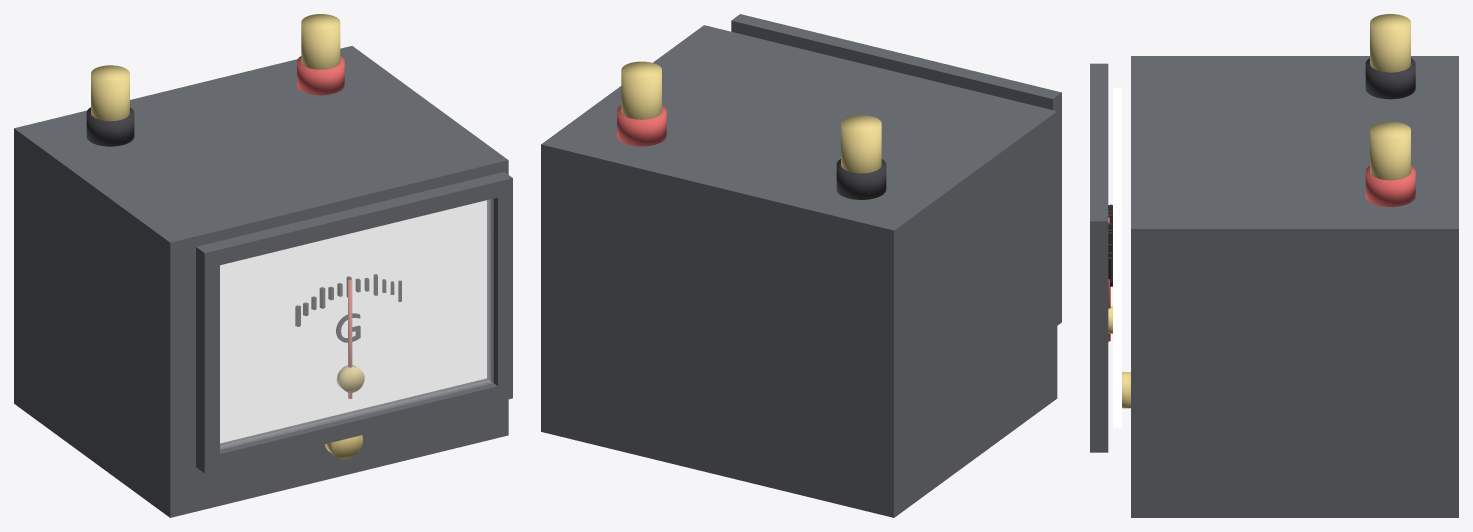
The model's file is galvanometer.glb.
3 views of the same model, side by side, from view 1: azimuth 30°, elevation 25°; view 2: azimuth 150°, elevation 25°; view 3: azimuth 270°, elevation 25° (orthographic). The views are drawn at different scales.
Parts seen in each view (by area): view 1: galvanometer-case, galvanometer-glass, galvanometer-dial, galvanometer-frame-top, galvanometer-frame-bottom, galvanometer-frame-left, galvanometer-frame-right, galvanometer-term-pos, galvanometer-term-neg, galvanometer-collar-neg, galvanometer-collar-pos, galvanometer-zero-screw (+1 smaller); view 2: galvanometer-case, galvanometer-frame-top, galvanometer-term-pos, galvanometer-term-neg, galvanometer-frame-left, galvanometer-collar-neg, galvanometer-collar-pos; view 3: galvanometer-case, galvanometer-frame-right, galvanometer-dial, galvanometer-frame-top, galvanometer-term-neg, galvanometer-term-pos, galvanometer-collar-neg, galvanometer-collar-pos.
Boxes of the visible parts, box(x1,y1,x2,y2) form: galvanometer-case: box(14, 46, 508, 517); galvanometer-glass: box(220, 199, 493, 449); galvanometer-dial: box(220, 200, 486, 443); galvanometer-frame-top: box(211, 175, 497, 265); galvanometer-frame-bottom: box(220, 380, 497, 469); galvanometer-frame-left: box(196, 243, 219, 473); galvanometer-frame-right: box(489, 172, 512, 401); galvanometer-term-pos: box(301, 14, 340, 69); galvanometer-term-neg: box(91, 65, 129, 121); galvanometer-collar-neg: box(86, 107, 134, 146); galvanometer-collar-pos: box(297, 56, 344, 95); galvanometer-zero-screw: box(324, 435, 362, 459); galvanometer-case: box(541, 25, 1057, 517); galvanometer-frame-top: box(747, 18, 1045, 106); galvanometer-term-pos: box(621, 61, 661, 119); galvanometer-term-neg: box(841, 115, 881, 173); galvanometer-frame-left: box(1037, 88, 1061, 325); galvanometer-collar-neg: box(836, 159, 886, 199); galvanometer-collar-pos: box(617, 105, 666, 146); galvanometer-case: box(1131, 56, 1458, 517); galvanometer-frame-right: box(1090, 213, 1108, 452); galvanometer-dial: box(1113, 88, 1121, 428); galvanometer-frame-top: box(1090, 71, 1108, 213); galvanometer-term-neg: box(1370, 14, 1410, 72); galvanometer-term-pos: box(1370, 121, 1410, 180); galvanometer-collar-neg: box(1365, 58, 1415, 99); galvanometer-collar-pos: box(1365, 166, 1415, 206).
Bounding box in the file's own units: 0.09 × 0.086 × 0.081.
